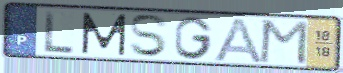A: (209, 16, 265, 65)
G: (173, 15, 215, 61)
L: (43, 9, 76, 55)
M: (256, 19, 310, 67), (80, 11, 129, 57)
S: (127, 13, 171, 59)
